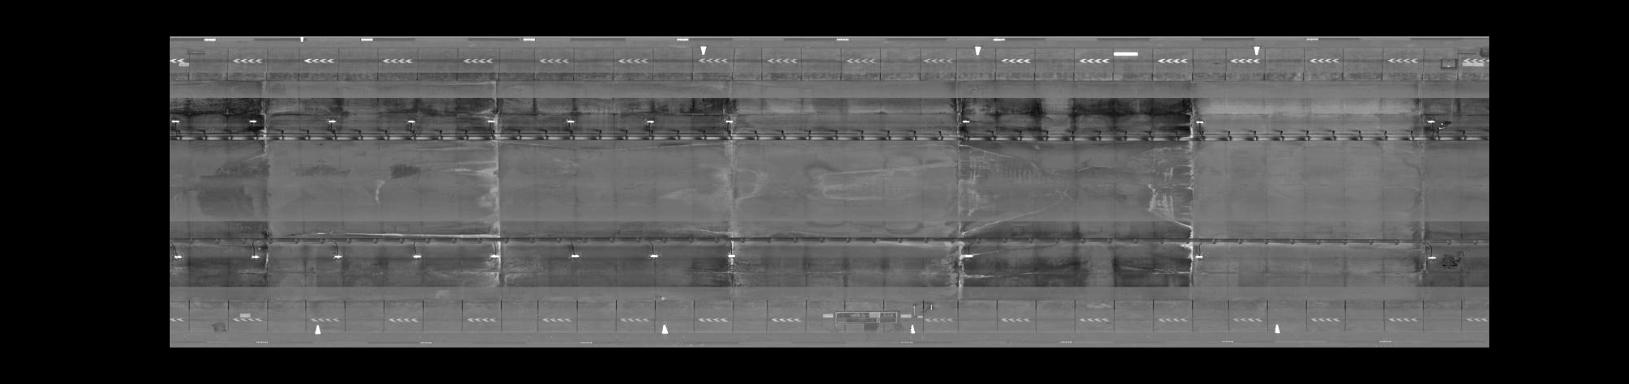light: (721, 251, 740, 260), (961, 251, 980, 260), (330, 251, 347, 262), (1191, 252, 1209, 260), (641, 115, 656, 126), (325, 116, 343, 125), (646, 251, 662, 260), (483, 117, 500, 126), (567, 251, 582, 260), (245, 117, 261, 126), (487, 252, 503, 260), (1191, 118, 1206, 127), (248, 253, 266, 260), (1423, 116, 1438, 125), (172, 251, 185, 260), (961, 116, 973, 126), (404, 117, 420, 125), (1425, 254, 1439, 263), (563, 117, 578, 125), (409, 253, 424, 260), (722, 117, 737, 125), (170, 116, 181, 125)
